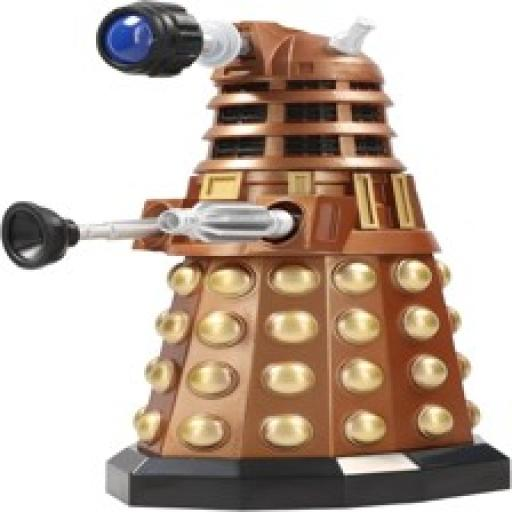dalek: (4, 0, 512, 510)
